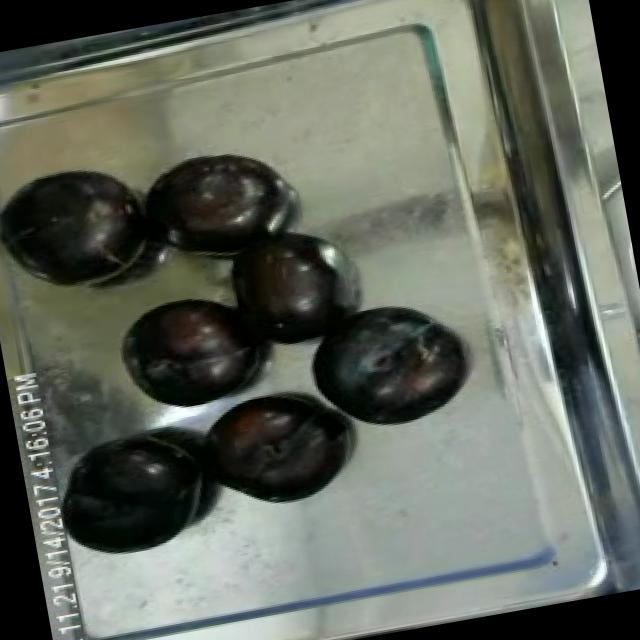Fruit: (294, 286, 478, 446), (44, 414, 220, 570), (196, 376, 357, 519), (0, 153, 156, 300), (114, 282, 266, 423), (212, 220, 354, 360), (134, 142, 287, 258)
